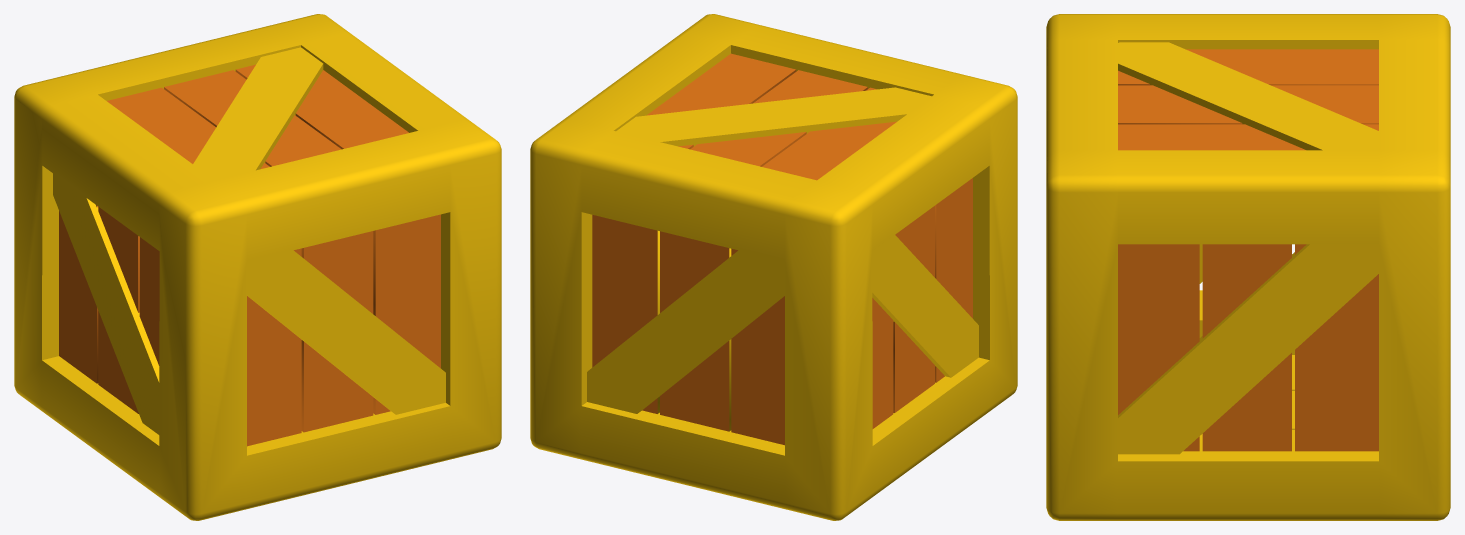
Rendered from Wall_Tile_BoxSmooth.fbx.
The picture shows the model from 3 angles, left to right: view 1: azimuth 30°, elevation 25°; view 2: azimuth 150°, elevation 25°; view 3: azimuth 270°, elevation 25°; orthographic projection. The views are drawn at different scales.
Visible parts, largest first — view 1: Wall_Tile_BoxSmooth; view 2: Wall_Tile_BoxSmooth; view 3: Wall_Tile_BoxSmooth.
Part boxes in pixels (x1,y1,x2,y2): Wall_Tile_BoxSmooth: (14, 14, 501, 520); Wall_Tile_BoxSmooth: (530, 14, 1017, 520); Wall_Tile_BoxSmooth: (1046, 14, 1450, 520).
Bounding box in the file's own units: 2.01 × 2.01 × 1.89.
